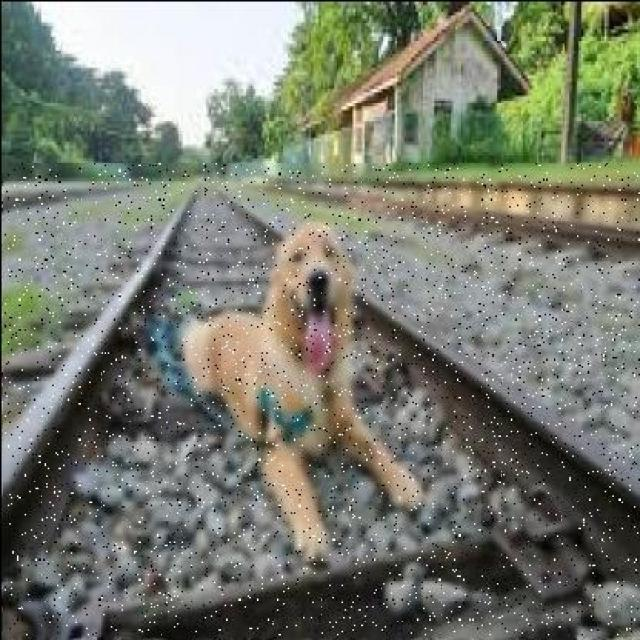rail: (4, 164, 639, 635)
